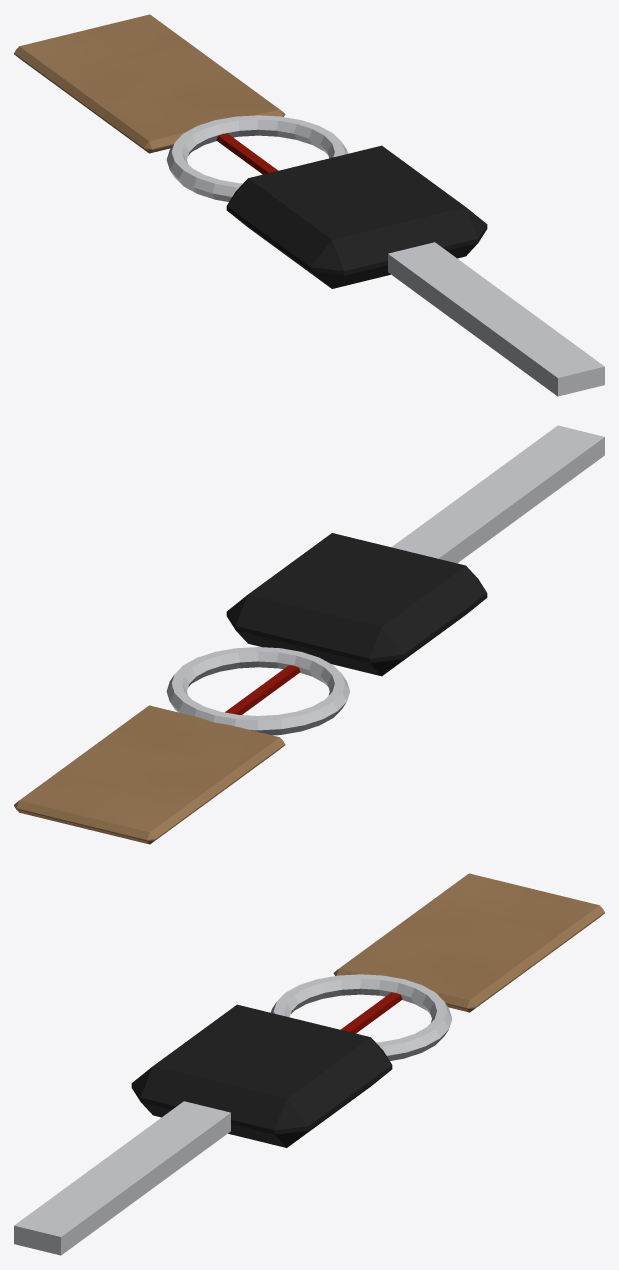
Rendered from chave_carro.glb.
3 views of the same model, one above another, from view 1: azimuth 30°, elevation 25°; view 2: azimuth 150°, elevation 25°; view 3: azimuth 330°, elevation 25° (orthographic).
Parts seen in each view (by area): view 1: chave_carro_plastico_preto, chave_carro_papelao, chave_carro_aco, chave_carro_fio_vermelho; view 2: chave_carro_plastico_preto, chave_carro_papelao, chave_carro_aco, chave_carro_fio_vermelho; view 3: chave_carro_plastico_preto, chave_carro_papelao, chave_carro_aco, chave_carro_fio_vermelho.
Part boxes in pixels (x1=…): chave_carro_plastico_preto: x1=226, y1=145, x2=487, y2=288; chave_carro_papelao: x1=14, y1=14, x2=285, y2=153; chave_carro_aco: x1=166, y1=115, x2=604, y2=396; chave_carro_fio_vermelho: x1=216, y1=133, x2=278, y2=174; chave_carro_plastico_preto: x1=226, y1=533, x2=487, y2=676; chave_carro_papelao: x1=14, y1=705, x2=285, y2=844; chave_carro_aco: x1=166, y1=425, x2=604, y2=735; chave_carro_fio_vermelho: x1=225, y1=665, x2=300, y2=714; chave_carro_plastico_preto: x1=131, y1=1004, x2=392, y2=1147; chave_carro_papelao: x1=333, y1=873, x2=604, y2=1012; chave_carro_aco: x1=14, y1=974, x2=452, y2=1255; chave_carro_fio_vermelho: x1=340, y1=992, x2=402, y2=1033.
Size of the model in its own units: 0.03 by 0.008 by 0.147.
4 materials, 1 textured.
